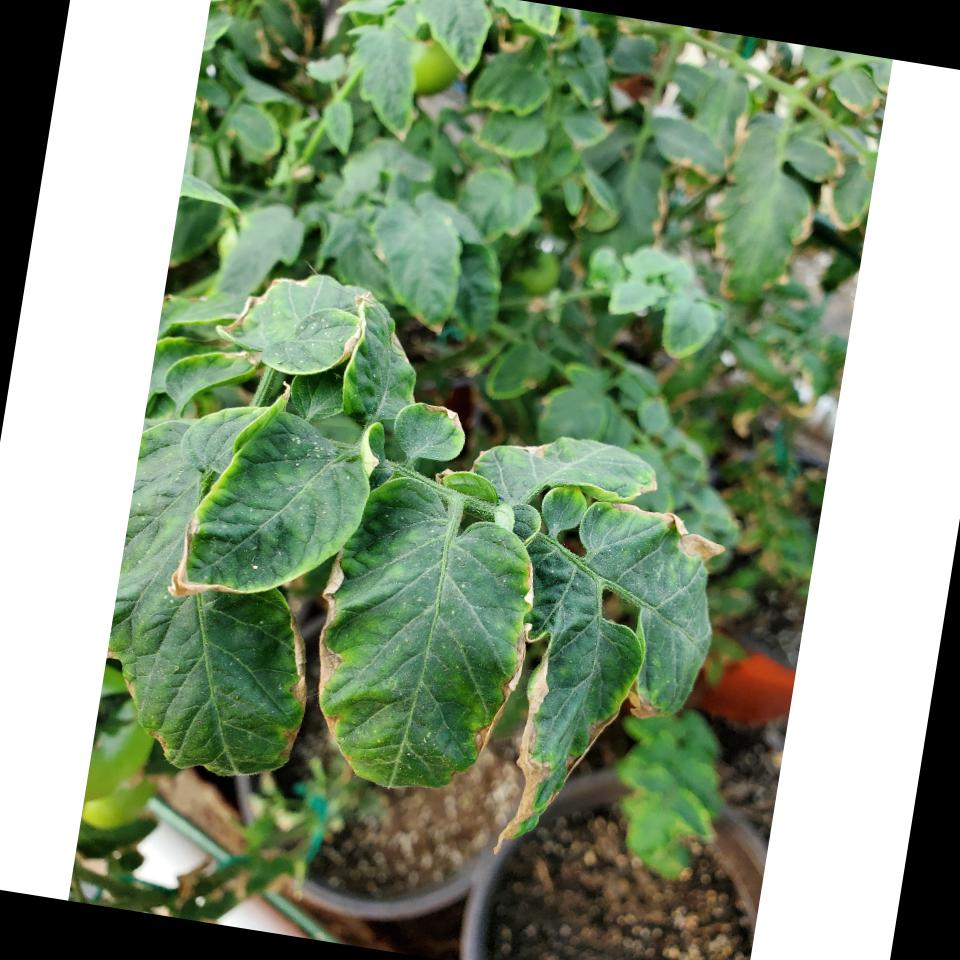tomato_bacterial_blight: (294, 464, 554, 808), (99, 519, 331, 794), (484, 601, 656, 873), (148, 430, 379, 631), (552, 494, 736, 736), (682, 106, 856, 326), (218, 260, 399, 390)
